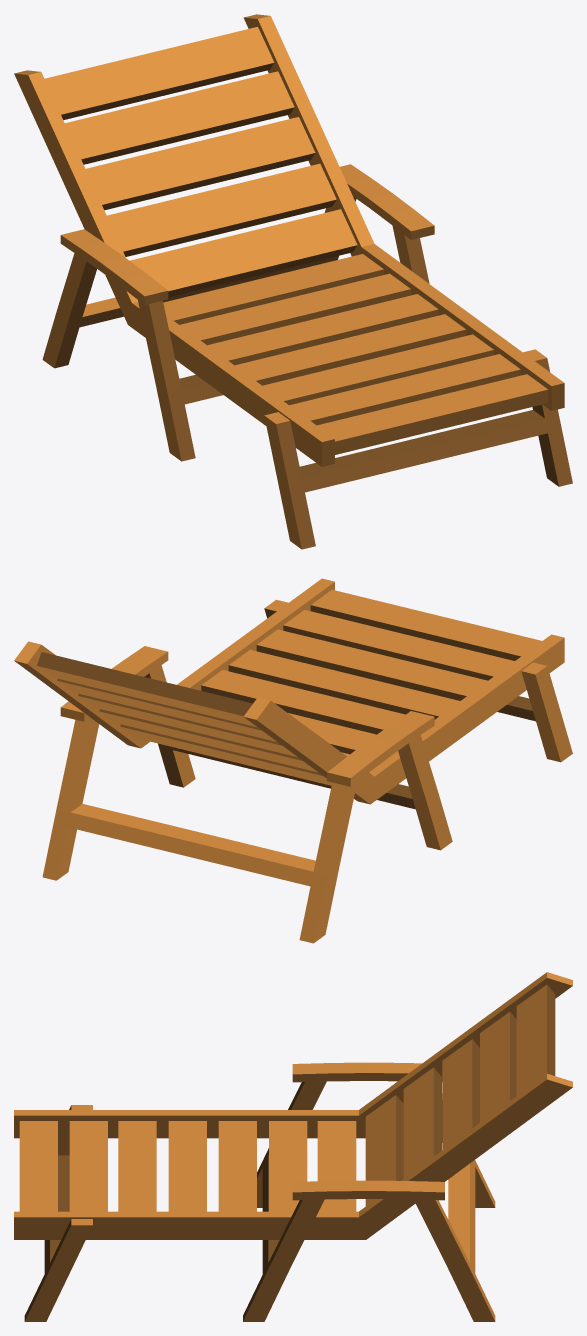
File: Sleeping Bench.fbx
3 renders of one model, top to bottom at view 1: azimuth 30°, elevation 25°; view 2: azimuth 150°, elevation 25°; view 3: azimuth 270°, elevation 25°, orthographic. The views are drawn at different scales.
Parts seen in each view (by area): view 1: Sleeping Bench; view 2: Sleeping Bench; view 3: Sleeping Bench.
Boxes of the visible parts, bbox=[...] form: Sleeping Bench: bbox=[14, 14, 572, 549]; Sleeping Bench: bbox=[14, 578, 572, 943]; Sleeping Bench: bbox=[14, 972, 572, 1321].
Bounding box in the file's own units: 108 × 92.61 × 199.
